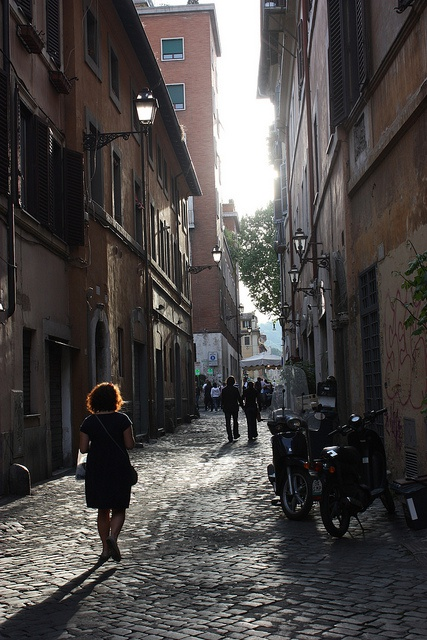non-vehicle: (303, 407, 394, 537), (266, 380, 336, 519)
